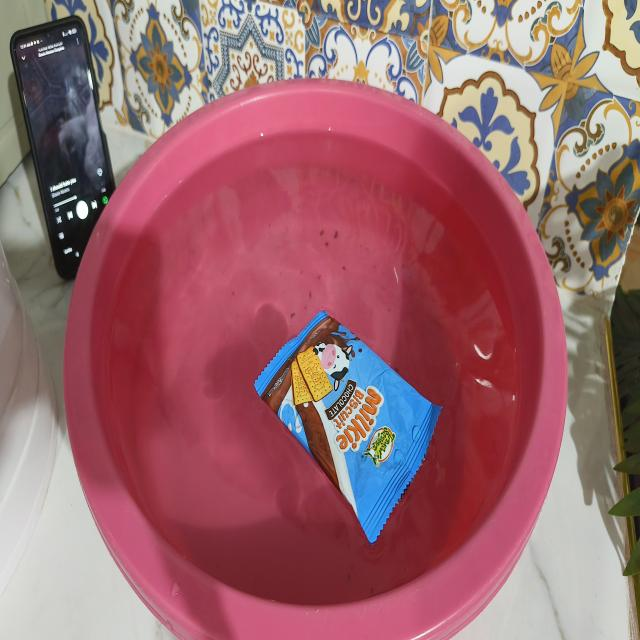Plastic Wrapper: (255, 311, 442, 543)
